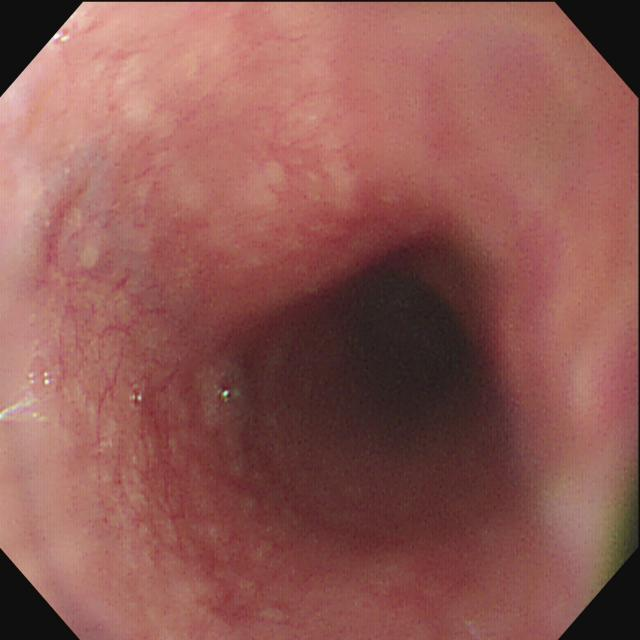E: (320, 268, 486, 435)
T: (24, 352, 55, 405), (126, 383, 146, 412), (218, 387, 244, 409)
